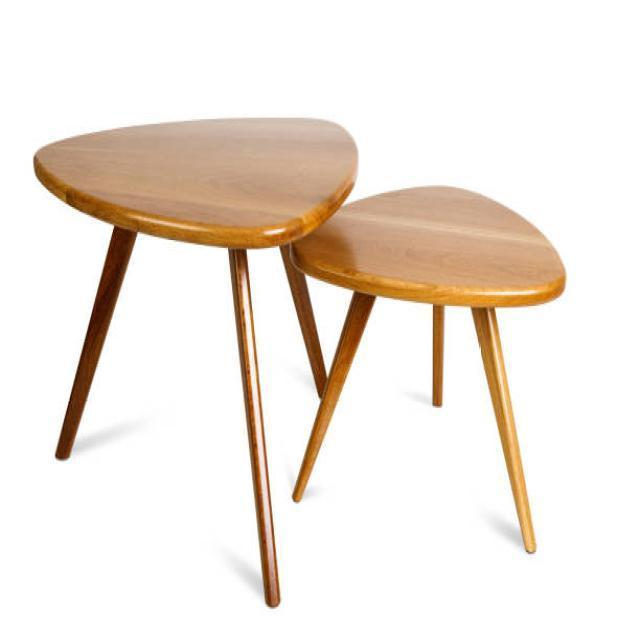table: (32, 115, 359, 608), (283, 182, 566, 554)
